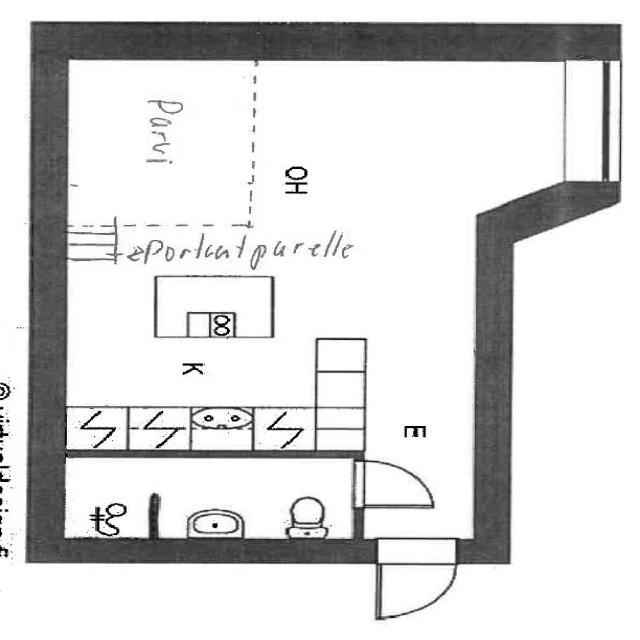door: (357, 532, 472, 632), (309, 452, 458, 520)
window: (542, 44, 640, 208)
zone: (59, 223, 392, 457), (249, 49, 569, 225), (62, 31, 272, 235), (58, 457, 363, 554)
